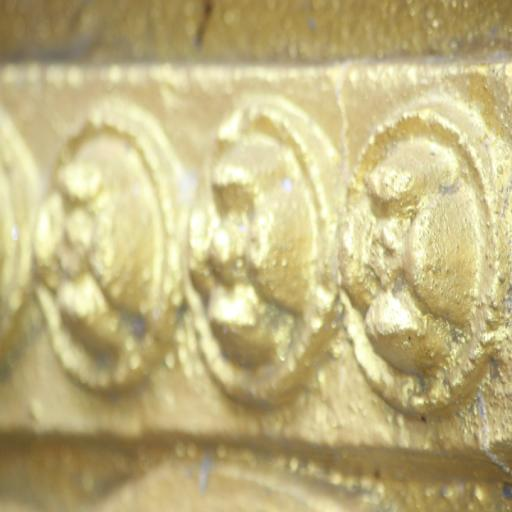hoa: (340, 107, 502, 402), (184, 103, 340, 406), (32, 103, 182, 401)
